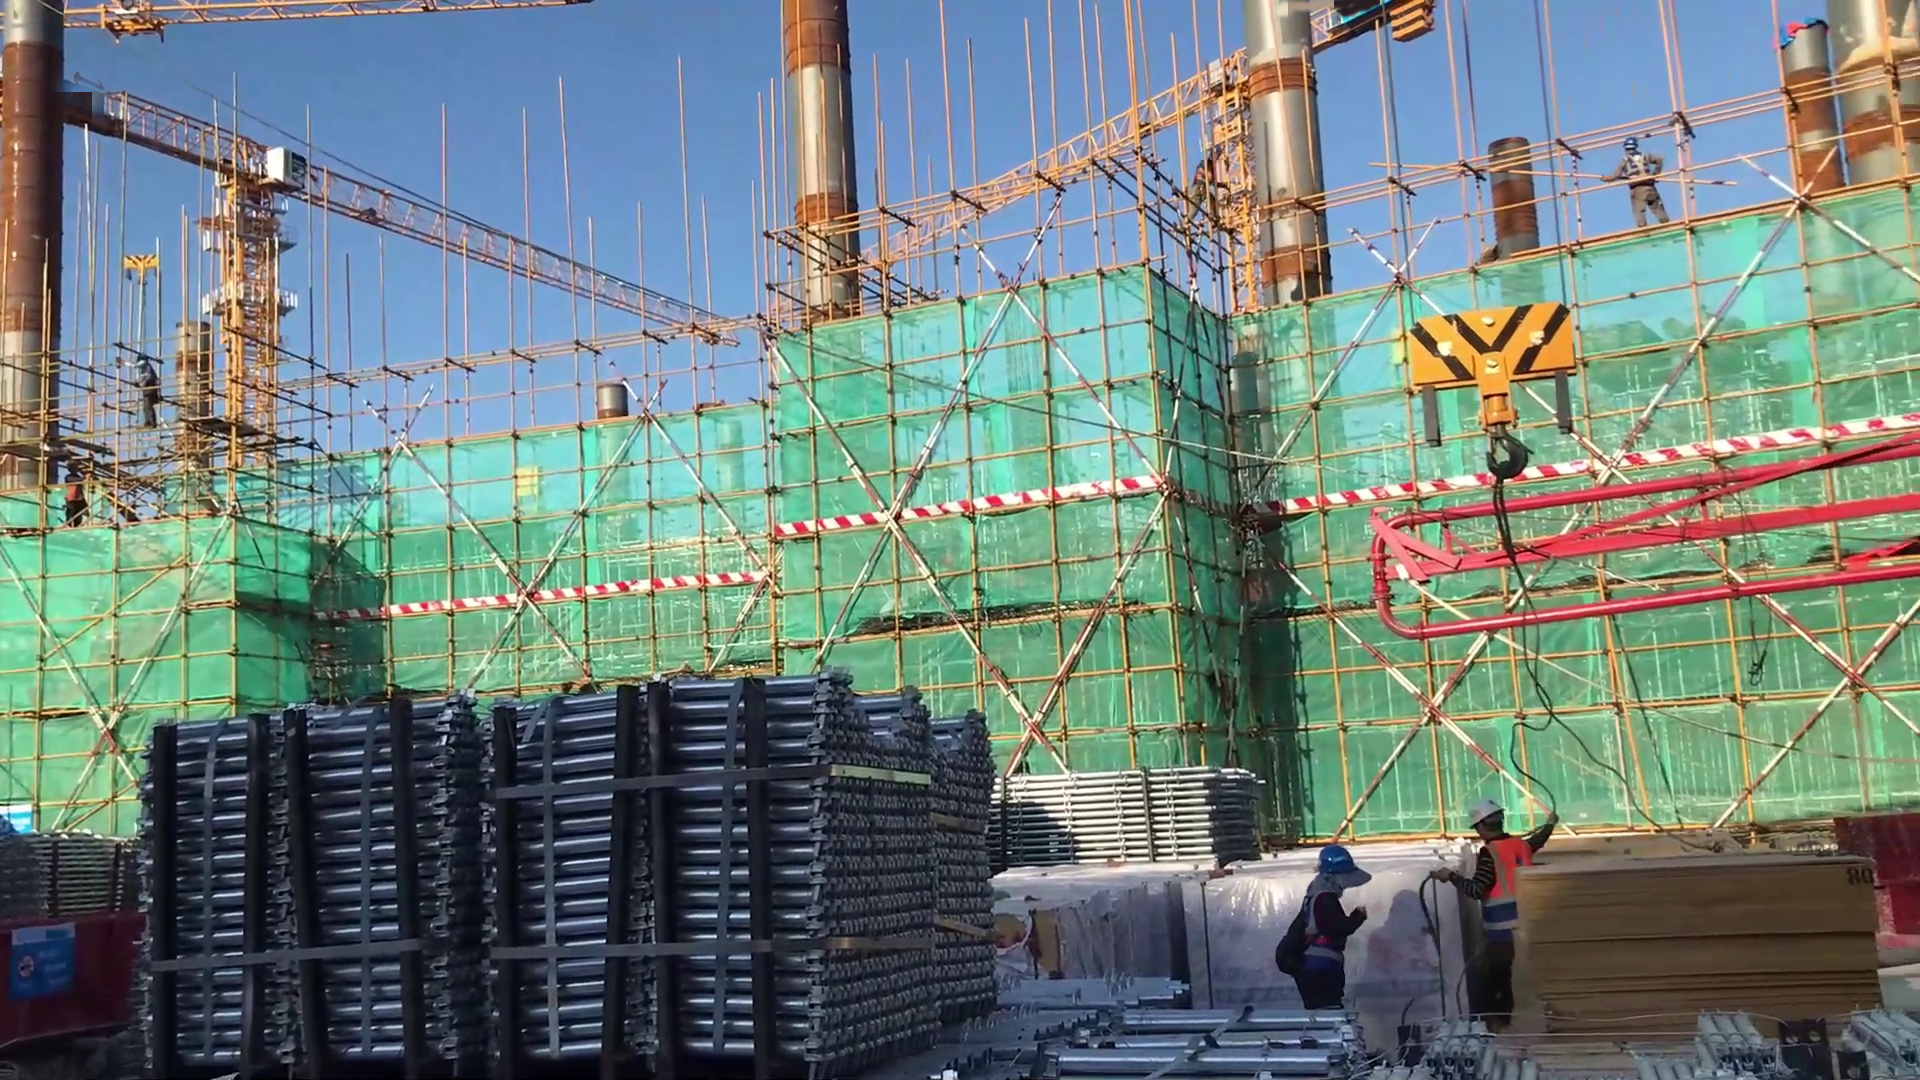board: (1481, 847, 1902, 1058)
fence: (1, 907, 144, 1053)
helmet: (1467, 789, 1518, 853), (1313, 839, 1360, 884), (1615, 134, 1644, 162), (133, 347, 152, 369)
hook: (1390, 288, 1612, 505), (111, 241, 179, 310)
person: (1437, 793, 1556, 1034), (1269, 835, 1378, 1022), (1597, 139, 1680, 238), (126, 337, 167, 457), (55, 456, 95, 556)
scaffold: (163, 673, 1001, 1080), (1009, 970, 1347, 1080), (994, 764, 1276, 876), (1, 809, 133, 937)
slogan: (9, 920, 102, 1013)
vest: (1295, 877, 1353, 985), (1479, 839, 1537, 934), (1618, 154, 1658, 188)
